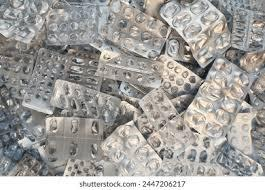pill_Strip: (184, 58, 251, 137), (22, 48, 101, 113), (160, 0, 229, 67), (99, 0, 169, 57), (101, 121, 161, 175), (50, 80, 120, 124), (97, 51, 162, 87), (0, 0, 52, 43), (147, 116, 195, 160), (46, 5, 99, 44), (159, 55, 201, 97), (139, 88, 177, 128), (216, 143, 262, 175), (0, 54, 33, 98), (45, 136, 101, 161), (231, 8, 264, 50), (45, 117, 103, 139), (227, 112, 255, 155), (156, 160, 233, 175), (165, 31, 192, 61), (9, 154, 43, 175), (63, 159, 103, 175), (119, 82, 151, 98)
